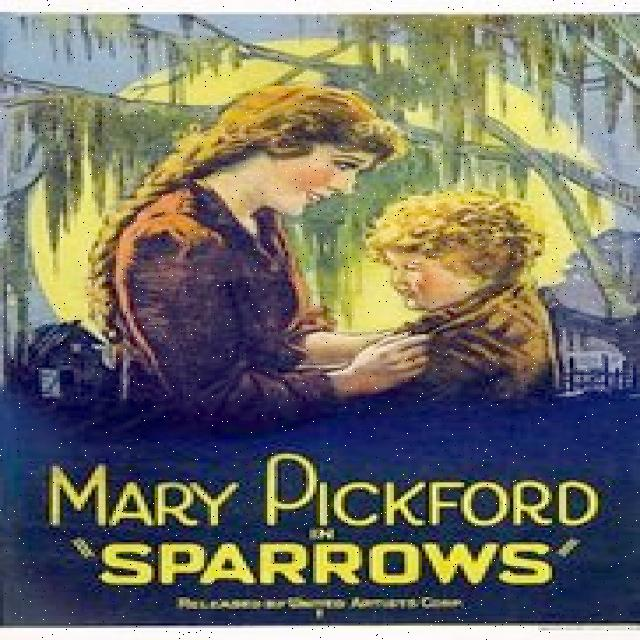movie-judul: (24, 456, 609, 586)
picture: (3, 9, 640, 620)
